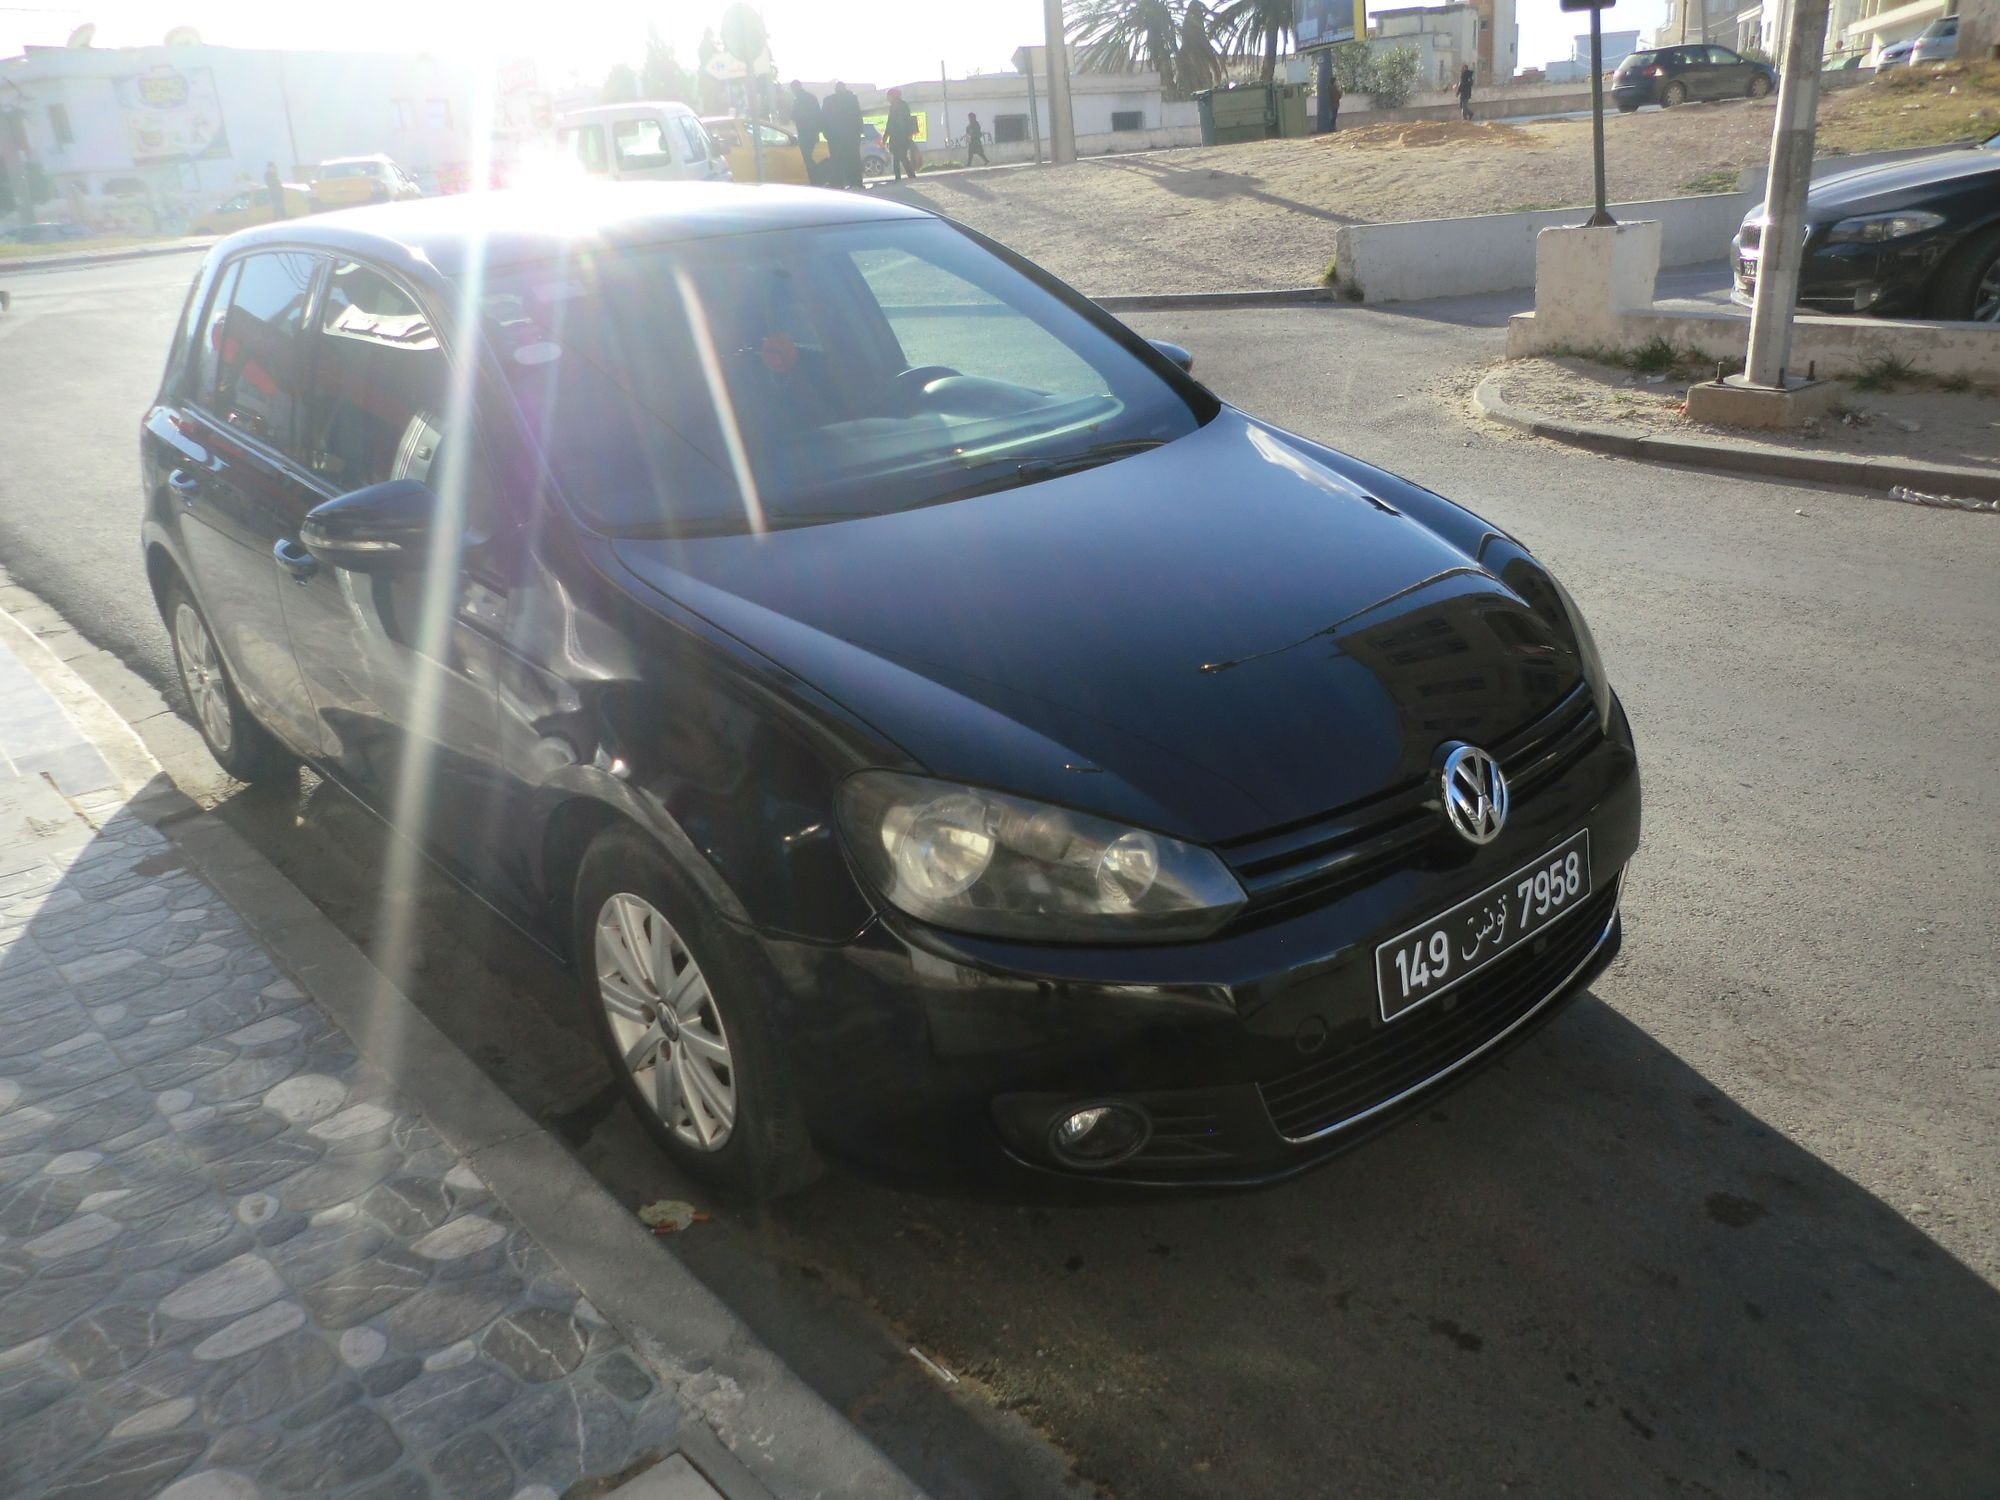LP: (1376, 830, 1621, 1027)
